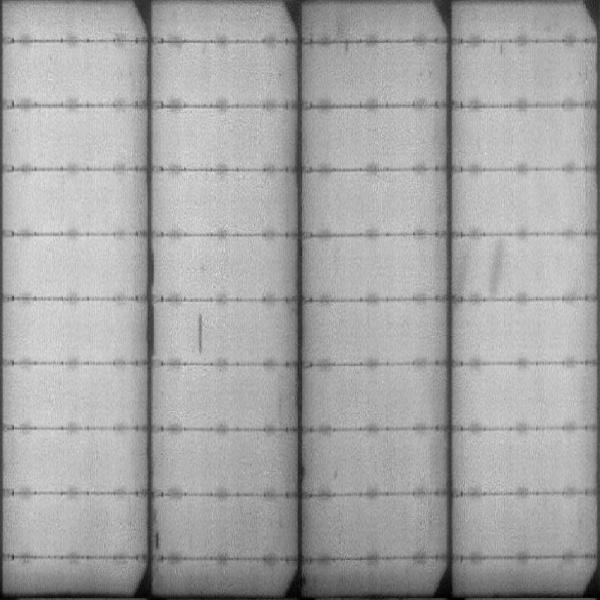scratch: (192, 313, 210, 360)
